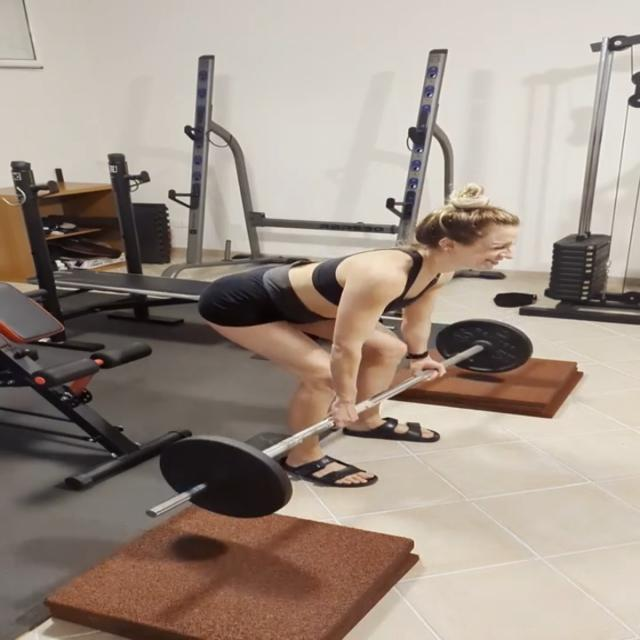barbell: (140, 431, 296, 524)
